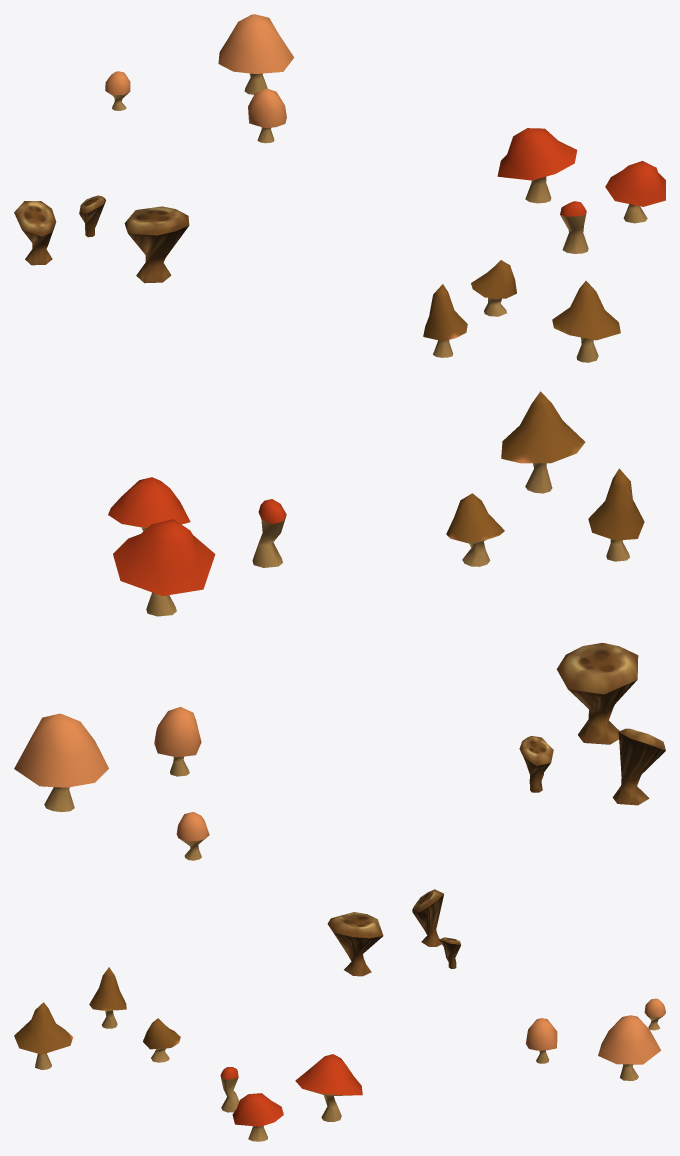
The model's file is Mushrooms01.FBX.
The picture shows the model from 3 angles, top to bottom: view 1: azimuth 30°, elevation 25°; view 2: azimuth 150°, elevation 25°; view 3: azimuth 270°, elevation 25°; orthographic projection. The views are drawn at different scales.
Visible parts, largest first — view 1: MushroomRed02B, MushroomRed01A, MushroomBrown02A, MushroomBrown01A, MushroomRed01B, MushroomBrown01B, MushroomBrown02B, MushroomBrown01C, MushroomRed02A, MushroomRed01C, MushroomBrown02C, MushroomRed02C; view 2: MushroomRed01A, MushroomRed02B, MushroomBrown02A, MushroomBrown01A, MushroomBrown01B, MushroomRed01B, MushroomBrown02B, MushroomBrown01C, MushroomRed02A, MushroomRed01C, MushroomBrown02C, MushroomRed02C; view 3: MushroomRed02B, MushroomRed01A, MushroomBrown02A, MushroomBrown01A, MushroomRed01B, MushroomBrown01B, MushroomBrown02B, MushroomRed02A, MushroomBrown01C, MushroomRed01C, MushroomRed02C, MushroomBrown02C.
Boxes of the visible parts, <box> form: MushroomRed02B: <box>218,14,293,94</box>; MushroomRed01A: <box>497,128,577,203</box>; MushroomBrown02A: <box>124,206,189,283</box>; MushroomBrown01A: <box>552,281,620,362</box>; MushroomRed01B: <box>605,161,665,223</box>; MushroomBrown01B: <box>423,284,467,357</box>; MushroomBrown02B: <box>14,201,56,265</box>; MushroomBrown01C: <box>471,260,516,316</box>; MushroomRed02A: <box>248,88,286,143</box>; MushroomRed01C: <box>560,201,588,253</box>; MushroomBrown02C: <box>79,195,105,237</box>; MushroomRed02C: <box>105,71,130,110</box>; MushroomRed01A: <box>113,519,215,616</box>; MushroomRed02B: <box>14,713,108,811</box>; MushroomBrown02A: <box>556,642,638,744</box>; MushroomBrown01A: <box>501,391,585,493</box>; MushroomBrown01B: <box>588,468,644,561</box>; MushroomRed01B: <box>108,477,190,531</box>; MushroomBrown02B: <box>612,728,665,805</box>; MushroomBrown01C: <box>446,493,504,566</box>; MushroomRed02A: <box>154,706,201,776</box>; MushroomRed01C: <box>252,499,286,567</box>; MushroomBrown02C: <box>519,736,553,792</box>; MushroomRed02C: <box>176,812,209,860</box>; MushroomRed02B: <box>598,1015,660,1080</box>; MushroomRed01A: <box>295,1054,362,1121</box>; MushroomBrown02A: <box>327,912,383,976</box>; MushroomBrown01A: <box>14,1002,73,1069</box>; MushroomRed01B: <box>232,1093,283,1141</box>; MushroomBrown01B: <box>89,967,126,1028</box>; MushroomBrown02B: <box>412,889,443,946</box>; MushroomRed02A: <box>525,1018,557,1063</box>; MushroomBrown01C: <box>143,1018,180,1062</box>; MushroomRed01C: <box>220,1067,239,1112</box>; MushroomRed02C: <box>644,998,665,1030</box>; MushroomBrown02C: <box>439,937,460,968</box>.
Bounding box in the file's own units: 449 × 62.54 × 568.
Materials: 1 (1 with a texture image).
